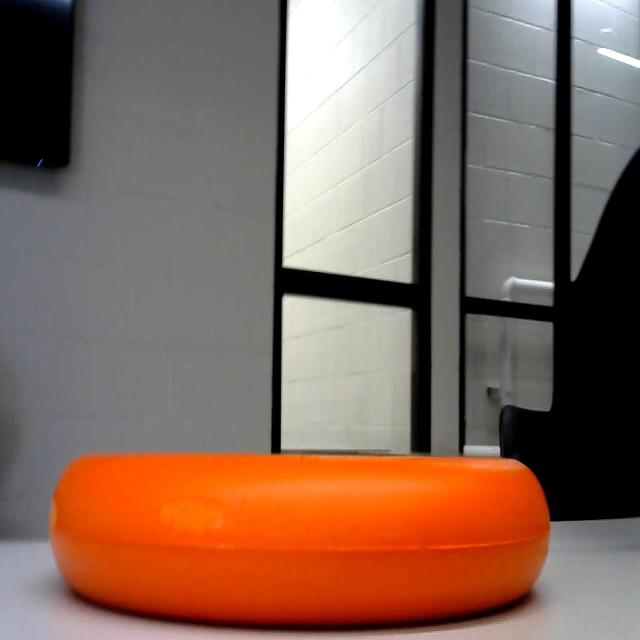note: (59, 458, 396, 640), (0, 406, 110, 502), (49, 466, 112, 503)
